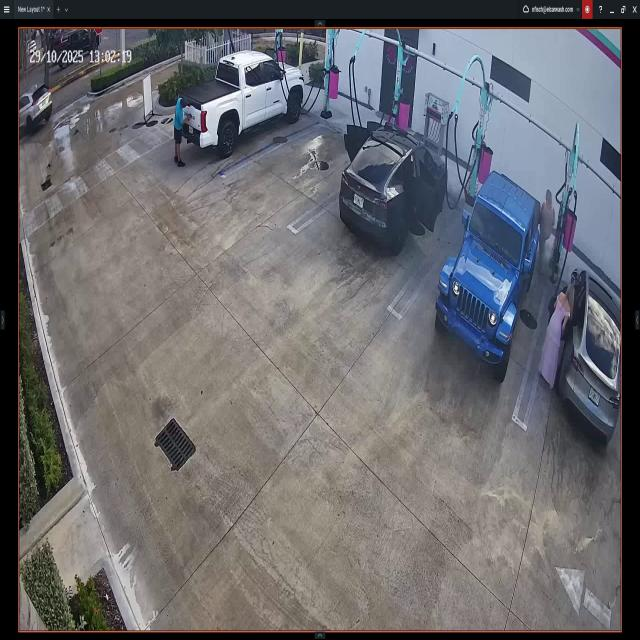Car: (438, 174, 530, 370), (344, 116, 446, 245), (557, 259, 620, 443), (183, 53, 304, 148), (20, 86, 53, 136)
